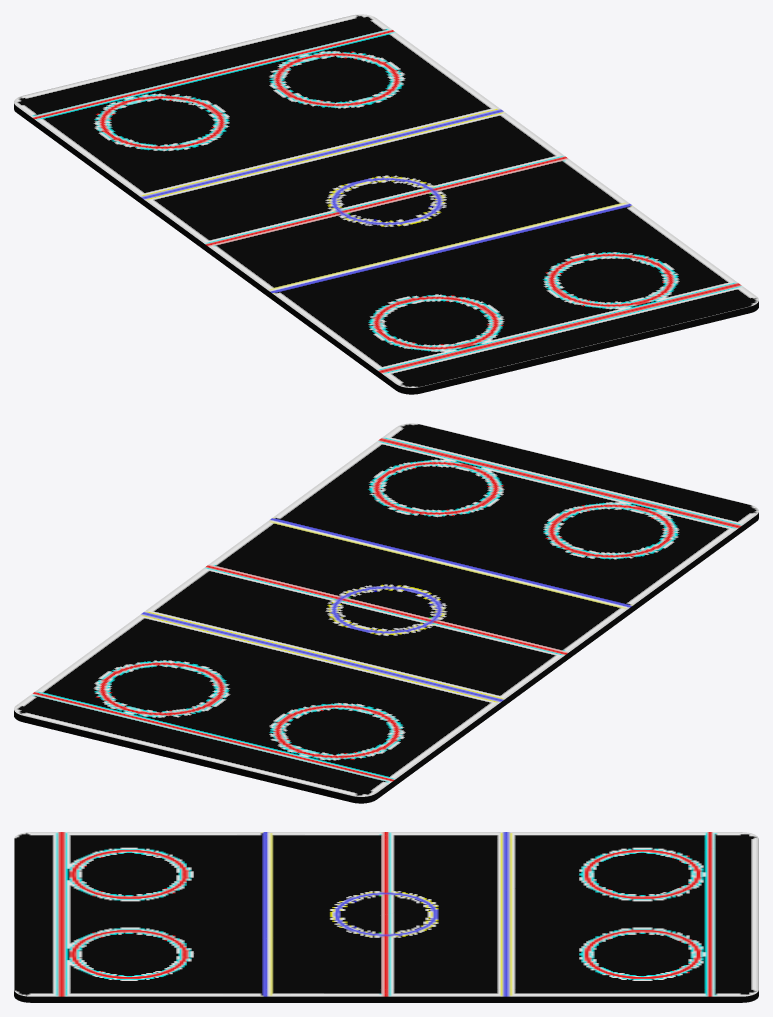
The model's file is table_black.glb.
3 views of the same model, one above another, from view 1: azimuth 30°, elevation 25°; view 2: azimuth 150°, elevation 25°; view 3: azimuth 270°, elevation 25° (orthographic). The views are drawn at different scales.
Visible parts, largest first — view 1: table; view 2: table; view 3: table.
Part boxes in pixels (box(x1,y1,x2,y2)): table: box(14, 14, 758, 394); table: box(14, 423, 758, 803); table: box(14, 832, 758, 1002).
Size of the model in its own units: 1150 by 20 by 2200.
1 material, 1 textured.
